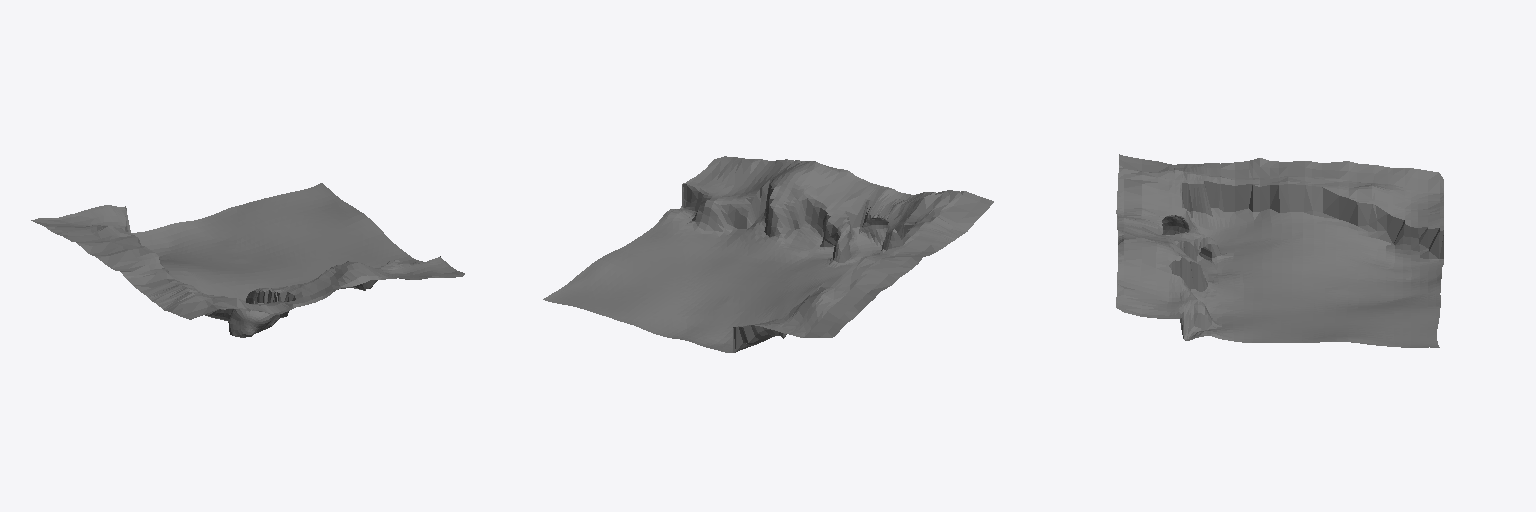
File: Level.obj
The picture shows the model from 3 angles: view 1: azimuth 30°, elevation 25°; view 2: azimuth 150°, elevation 25°; view 3: azimuth 270°, elevation 25°; orthographic projection.
Parts seen in each view (by area): view 1: Level2:polySurface2; view 2: Level2:polySurface2; view 3: Level2:polySurface2.
Boxes of the visible parts, x1=… form: Level2:polySurface2: x1=31, y1=183, x2=464, y2=337; Level2:polySurface2: x1=543, y1=156, x2=993, y2=352; Level2:polySurface2: x1=1116, y1=154, x2=1443, y2=347.
Size of the model in its own units: 378 by 85.31 by 369.